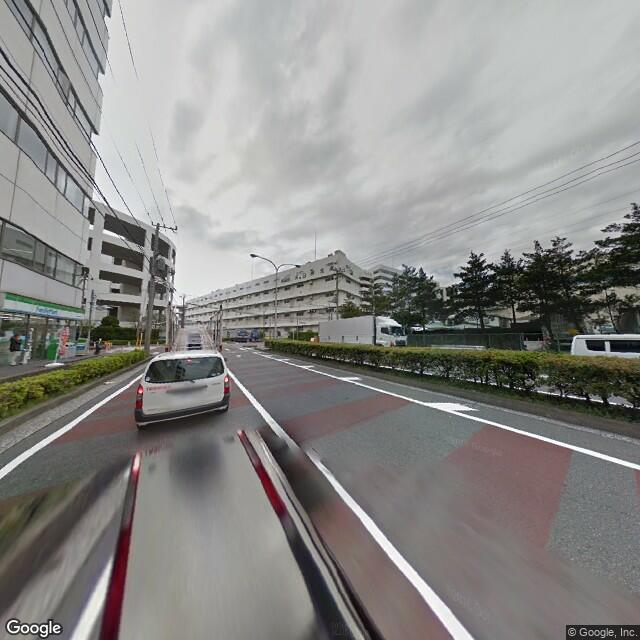family_mart: (3, 293, 85, 320)
